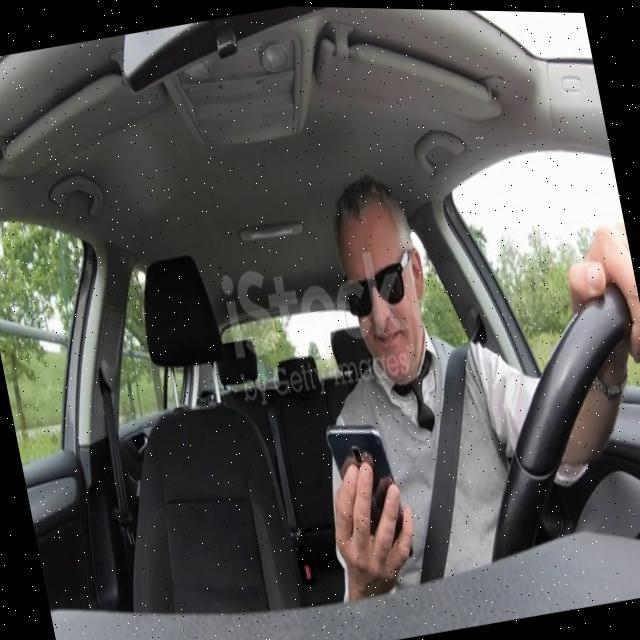PhoneCall: (325, 413, 419, 566)
